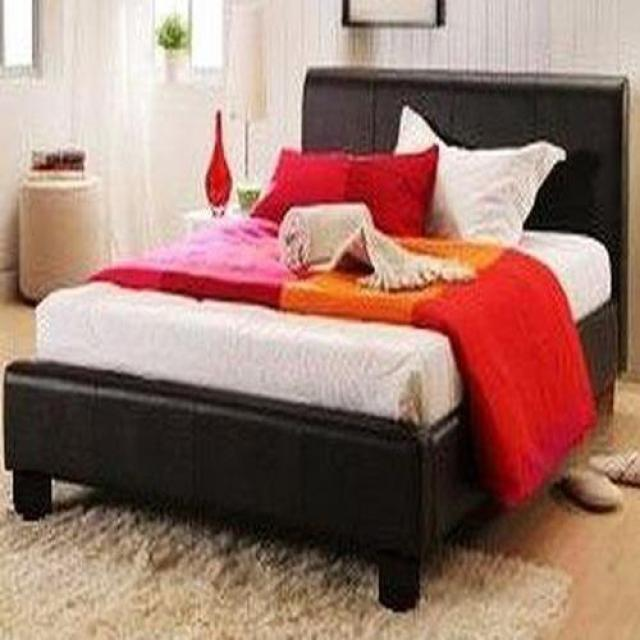bed: (4, 68, 632, 613)
